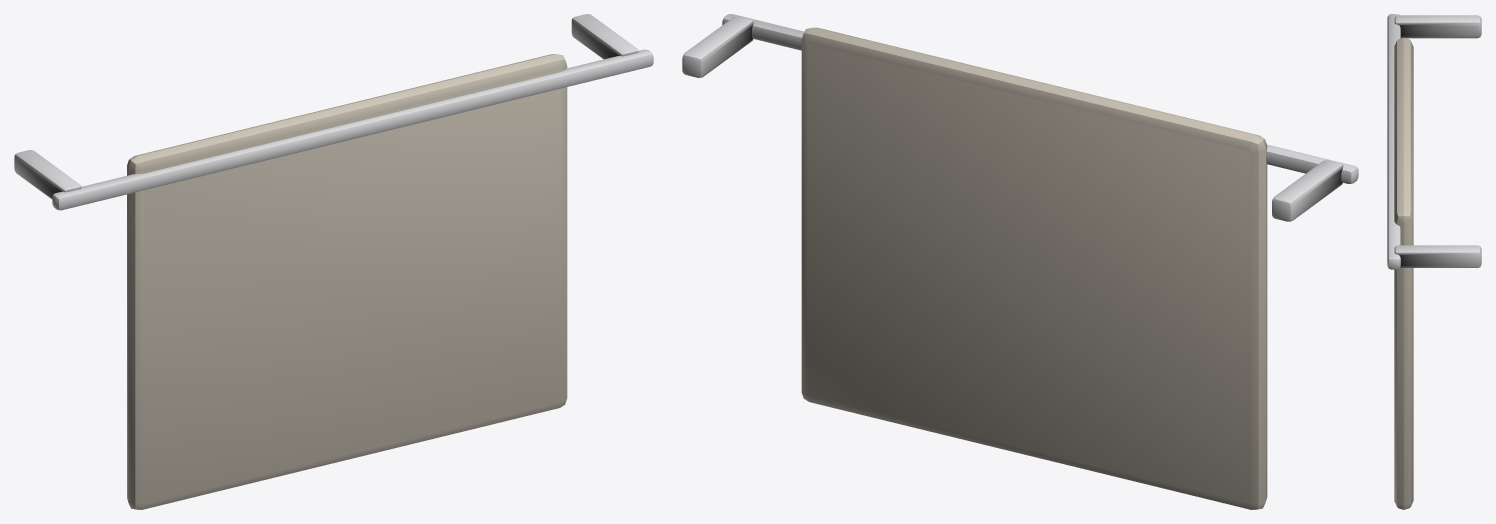
The model's file is towel_rail.glb.
The picture shows the model from 3 angles, left to right: view 1: azimuth 30°, elevation 25°; view 2: azimuth 150°, elevation 25°; view 3: azimuth 270°, elevation 25°; orthographic projection. The views are drawn at different scales.
Parts seen in each view (by area): view 1: towel_rail; view 2: towel_rail; view 3: towel_rail.
Part boxes in pixels (x1,y1,x2,y2): towel_rail: (14, 14, 653, 509); towel_rail: (682, 14, 1358, 509); towel_rail: (1387, 14, 1481, 509).
Bounding box in the file's own units: 0.6 × 0.34 × 0.097.
